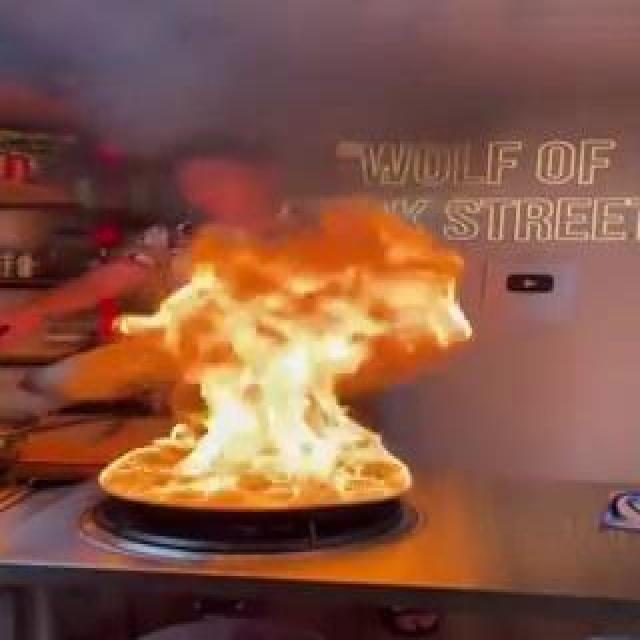Fire: (263, 314, 356, 394)
